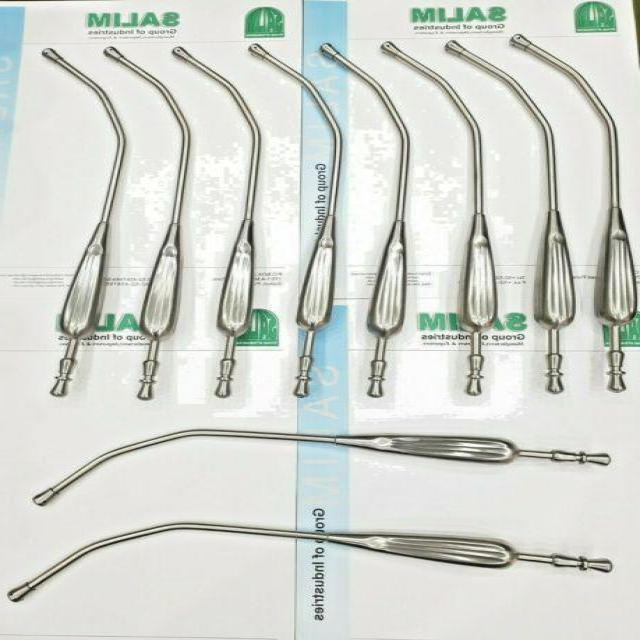Yankauer: (6, 519, 614, 605), (442, 38, 578, 396), (508, 31, 640, 395), (30, 427, 612, 509), (378, 39, 502, 397), (247, 41, 347, 399), (316, 40, 412, 400), (170, 45, 265, 400), (100, 43, 192, 402), (38, 44, 128, 399)
